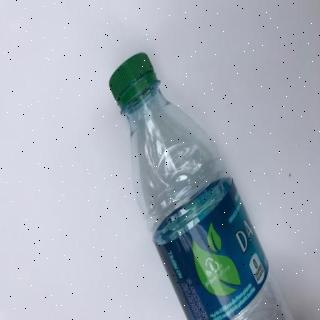Plastic-bottle: (107, 50, 297, 320)
